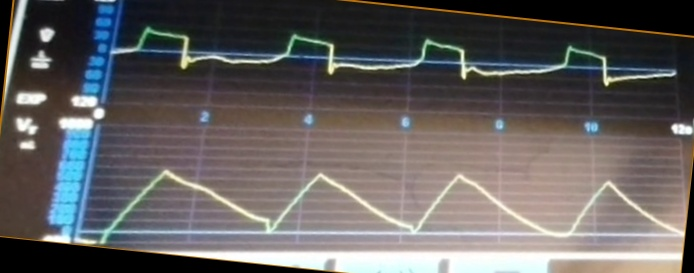Premature_cycling Flow: (113, 23, 678, 103)
Premature_cycling Volume: (89, 162, 680, 244)
